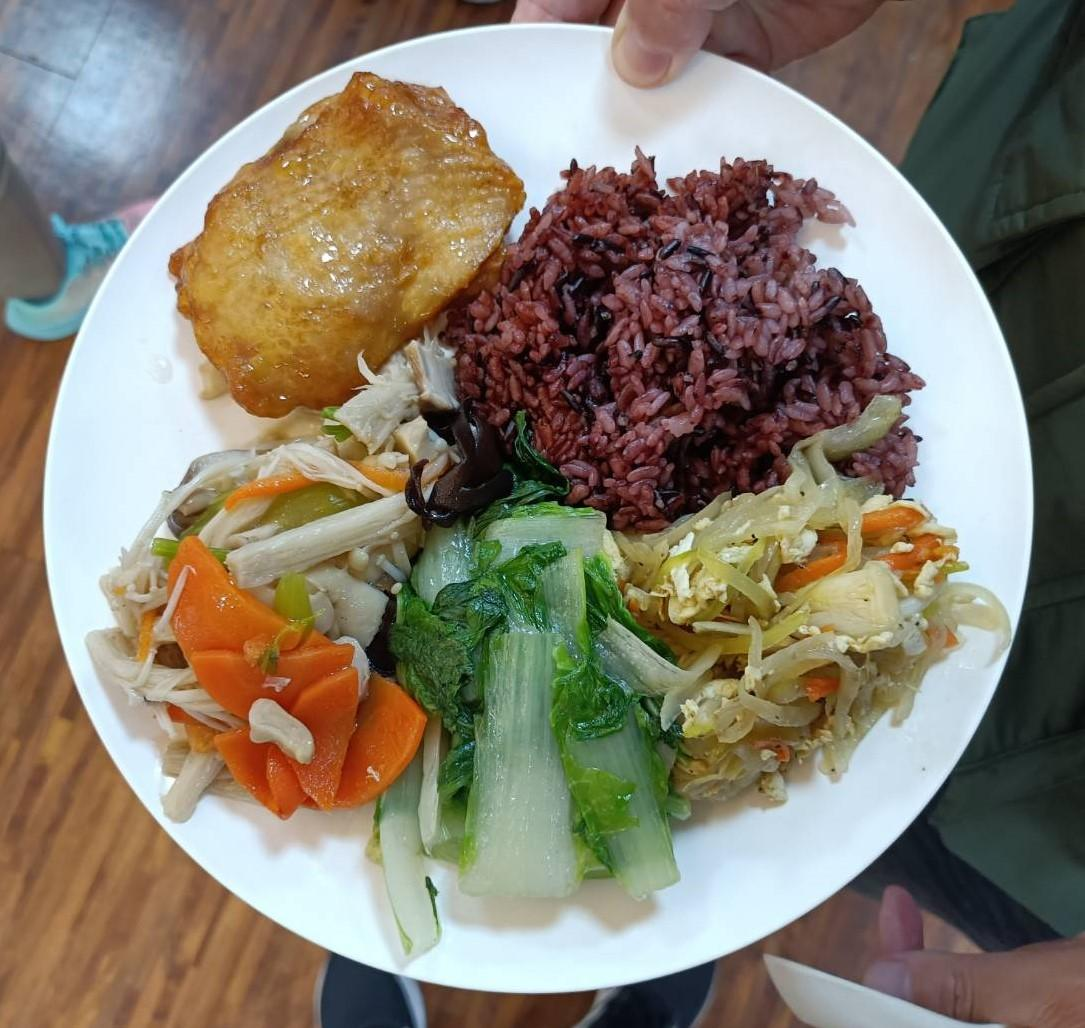big fried chicken leg: (38, 20, 1056, 1007)
braised fish: (446, 154, 932, 527)
braised fish fillet: (92, 352, 440, 827), (370, 488, 684, 957), (618, 459, 1004, 805)
braised pork: (162, 70, 538, 404)
